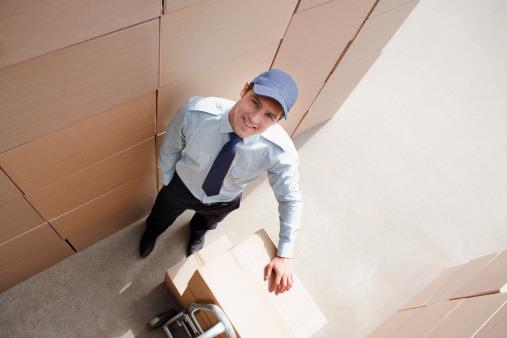em pe: (130, 47, 314, 320)
